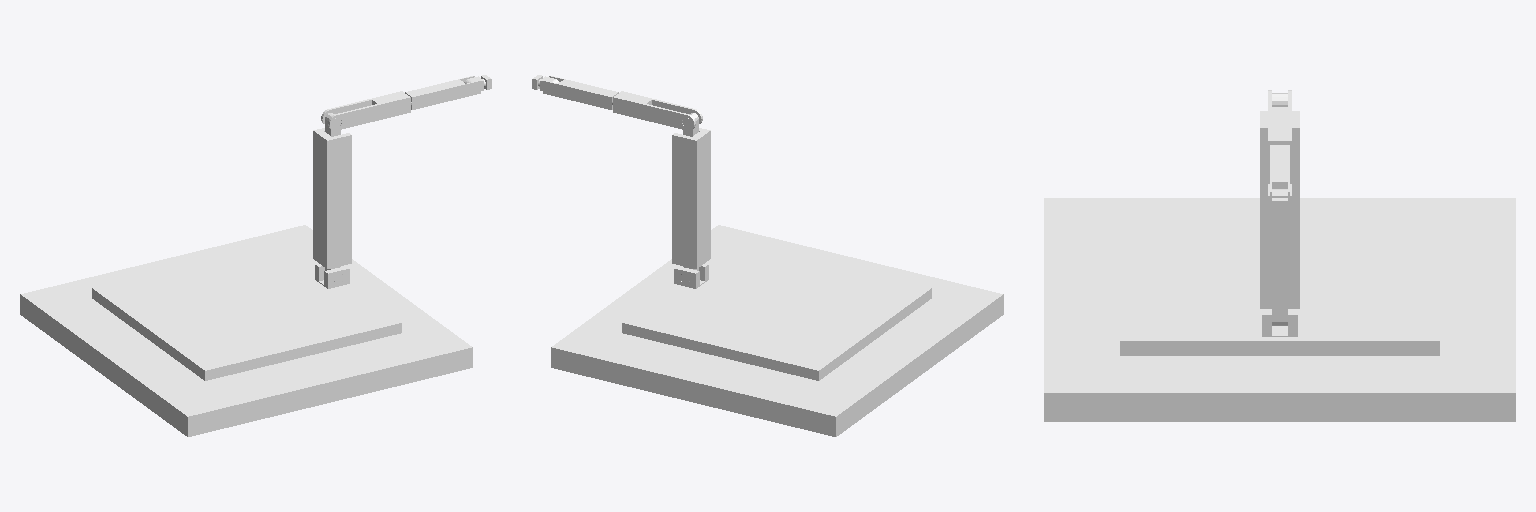
URDF robot description (sbarm):
<?xml version="1.0" encoding="utf-8"?>
<!-- This URDF was automatically created by SolidWorks to URDF Exporter! Originally created by Stephen Brawner (brawner@gmail.com) 
     Commit Version: 1.6.0-4-g7f85cfe  Build Version: 1.6.7995.38578
     For more information, please see http://wiki.ros.org/sw_urdf_exporter -->
<robot 
  name="sbarm">
  <link
    name="base_link">
    <inertial>
      <origin
        xyz="3.22895573206493E-17 1.20744124924668E-17 0.0199816050754555"
        rpy="0 0 0" />
      <mass
        value="13.6628672587713" />
      <inertia
        ixx="0.398885264403897"
        ixy="5.2372920814983E-19"
        ixz="2.08800894925334E-18"
        iyy="0.385539464403898"
        iyz="2.09420681298502E-17"
        izz="0.780781306785087" />
    </inertial>
    <visual>
      <origin
        xyz="0 0 0"
        rpy="0 0 0" />
      <geometry>
        <mesh
          filename="package://sbarm_description/meshes/base_link.STL" />
      </geometry>
      <material
        name="">
        <color
          rgba="1 1 1 1" />
      </material>
    </visual>
    <collision>
      <origin
        xyz="0 0 0"
        rpy="0 0 0" />
      <geometry>
        <mesh
          filename="package://sbarm_description/meshes/base_link.STL" />
      </geometry>
    </collision>
  </link>
  <link
    name="Link1">
    <inertial>
      <origin
        xyz="-0.000340271092844169 0.00970833906327644 2.77387961485344E-17"
        rpy="0 0 0" />
      <mass
        value="3.2314159265359" />
      <inertia
        ixx="0.042802851219708"
        ixy="3.20697949652414E-07"
        ixz="4.4594452943992E-20"
        iyy="0.0851477622987963"
        iyz="1.02247133736398E-20"
        izz="0.0426100545220677" />
    </inertial>
    <visual>
      <origin
        xyz="0 0 0"
        rpy="0 0 0" />
      <geometry>
        <mesh
          filename="package://sbarm_description/meshes/Link1.STL" />
      </geometry>
      <material
        name="">
        <color
          rgba="1 1 1 1" />
      </material>
    </visual>
    <collision>
      <origin
        xyz="0 0 0"
        rpy="0 0 0" />
      <geometry>
        <mesh
          filename="package://sbarm_description/meshes/Link1.STL" />
      </geometry>
    </collision>
  </link>
  <joint
    name="Joint0"
    type="continuous">
    <origin
      xyz="0 0 0.05"
      rpy="1.5708 0 0" />
    <parent
      link="base_link" />
    <child
      link="Link1" />
    <axis
      xyz="0 -1 0" />
  </joint>
  <link
    name="Link2">
    <inertial>
      <origin
        xyz="4.94172086145169E-10 0.0332156260215387 2.77555756156289E-17"
        rpy="0 0 0" />
      <mass
        value="0.03555" />
      <inertia
        ixx="1.33997123018394E-05"
        ixy="4.62022022451317E-16"
        ixz="1.79644795454993E-21"
        iyy="1.34307671297689E-05"
        iyz="-3.59186187689818E-21"
        izz="1.48323544316084E-05" />
    </inertial>
    <visual>
      <origin
        xyz="0 0 0"
        rpy="0 0 0" />
      <geometry>
        <mesh
          filename="package://sbarm_description/meshes/Link2.STL" />
      </geometry>
      <material
        name="">
        <color
          rgba="1 1 1 1" />
      </material>
    </visual>
    <collision>
      <origin
        xyz="0 0 0"
        rpy="0 0 0" />
      <geometry>
        <mesh
          filename="package://sbarm_description/meshes/Link2.STL" />
      </geometry>
    </collision>
  </link>
  <joint
    name="joint1"
    type="continuous">
    <origin
      xyz="0.175 0 0"
      rpy="0 1.5708 0" />
    <parent
      link="Link1" />
    <child
      link="Link2" />
    <axis
      xyz="0 1 0" />
  </joint>
  <link
    name="Link3">
    <inertial>
      <origin
        xyz="0.14092 -3.1717E-16 0.0012243"
        rpy="0 0 0" />
      <mass
        value="0.6015" />
      <inertia
        ixx="0.00024375"
        ixy="6.0163E-18"
        ixz="-6.4307E-05"
        iyy="0.0036817"
        iyz="1.5063E-19"
        izz="0.0036932" />
    </inertial>
    <visual>
      <origin
        xyz="0 0 0"
        rpy="0 0 0" />
      <geometry>
        <mesh
          filename="package://sbarm_description/meshes/Link3.STL" />
      </geometry>
      <material
        name="">
        <color
          rgba="1 1 1 1" />
      </material>
    </visual>
    <collision>
      <origin
        xyz="0 0 0"
        rpy="0 0 0" />
      <geometry>
        <mesh
          filename="package://sbarm_description/meshes/Link3.STL" />
      </geometry>
    </collision>
  </link>
  <joint
    name="Joint2"
    type="revolute">
    <origin
      xyz="0 0.04 0"
      rpy="3.1416 0 1.5708" />
    <parent
      link="Link2" />
    <child
      link="Link3" />
    <axis
      xyz="0 1 0" />
    <limit
      lower="-1.57"
      upper="1.57"
      effort="0"
      velocity="0" />
  </joint>
  <link
    name="Link4">
    <inertial>
      <origin
        xyz="-0.0810873037652259 5.5817069100331E-16 0.00172207650717737"
        rpy="0 0 0" />
      <mass
        value="0.0996862436110493" />
      <inertia
        ixx="1.67014049284908E-05"
        ixy="-6.66301673992002E-20"
        ixz="-5.6686140494268E-06"
        iyy="0.000176995627271821"
        iyz="-6.03509473611794E-22"
        izz="0.000178392866442945" />
    </inertial>
    <visual>
      <origin
        xyz="0 0 0"
        rpy="0 0 0" />
      <geometry>
        <mesh
          filename="package://sbarm_description/meshes/Link4.STL" />
      </geometry>
      <material
        name="">
        <color
          rgba="1 1 1 1" />
      </material>
    </visual>
    <collision>
      <origin
        xyz="0 0 0"
        rpy="0 0 0" />
      <geometry>
        <mesh
          filename="package://sbarm_description/meshes/Link4.STL" />
      </geometry>
    </collision>
  </link>
  <joint
    name="Joint3"
    type="revolute">
    <origin
      xyz="0.3 0 0"
      rpy="0 -1.5708 0" />
    <parent
      link="Link3" />
    <child
      link="Link4" />
    <axis
      xyz="0 -1 0" />
    <limit
      lower="-1.57"
      upper="1.57"
      effort="0"
      velocity="0" />
  </joint>
  <link
    name="Link5">
    <inertial>
      <origin
        xyz="-4.97710877817599E-16 0.0751572598582004 5.55111512312578E-17"
        rpy="0 0 0" />
      <mass
        value="0.0787831853071797" />
      <inertia
        ixx="0.000117962651560774"
        ixy="-5.84753780977857E-20"
        ixz="-3.94384087571583E-22"
        iyy="7.98714047366535E-06"
        iyz="-3.07054641843408E-22"
        izz="0.000118083549435747" />
    </inertial>
    <visual>
      <origin
        xyz="0 0 0"
        rpy="0 0 0" />
      <geometry>
        <mesh
          filename="package://sbarm_description/meshes/Link5.STL" />
      </geometry>
      <material
        name="">
        <color
          rgba="1 1 1 1" />
      </material>
    </visual>
    <collision>
      <origin
        xyz="0 0 0"
        rpy="0 0 0" />
      <geometry>
        <mesh
          filename="package://sbarm_description/meshes/Link5.STL" />
      </geometry>
    </collision>
  </link>
  <joint
    name="joint4"
    type="continuous">
    <origin
      xyz="-0.13 0 0"
      rpy="3.1416 0 -1.5708" />
    <parent
      link="Link4" />
    <child
      link="Link5" />
    <axis
      xyz="0 1 0" />
  </joint>
  <link
    name="Link6">
    <inertial>
      <origin
        xyz="-0.00366912623487137 4.69078198953036E-16 -1.66533453693773E-16"
        rpy="0 0 0" />
      <mass
        value="0.0109452431127404" />
      <inertia
        ixx="9.05783868631967E-07"
        ixy="5.6738921807578E-22"
        ixz="1.04900797162653E-23"
        iyy="9.84418061104334E-07"
        iyz="-2.42004461905348E-23"
        izz="1.17095012491123E-06" />
    </inertial>
    <visual>
      <origin
        xyz="0 0 0"
        rpy="0 0 0" />
      <geometry>
        <mesh
          filename="package://sbarm_description/meshes/Link6.STL" />
      </geometry>
      <material
        name="">
        <color
          rgba="1 1 1 1" />
      </material>
    </visual>
    <collision>
      <origin
        xyz="0 0 0"
        rpy="0 0 0" />
      <geometry>
        <mesh
          filename="package://sbarm_description/meshes/Link6.STL" />
      </geometry>
    </collision>
  </link>
  <joint
    name="Joint5"
    type="revolute">
    <origin
      xyz="0 0.1525 0"
      rpy="3.1416 0 -1.5708" />
    <parent
      link="Link5" />
    <child
      link="Link6" />
    <axis
      xyz="0 1 0" />
    <limit
      lower="-1.57"
      upper="1.57"
      effort="0"
      velocity="0" />
  </joint>
  <link
    name="Link7">
    <inertial>
      <origin
        xyz="-4.80820654765989E-16 0.00501798437019696 -5.55111512312578E-17"
        rpy="0 0 0" />
      <mass
        value="0.0066507188014664" />
      <inertia
        ixx="5.02744158829931E-07"
        ixy="-1.0077740630167E-22"
        ixz="-5.52297948375617E-23"
        iyy="3.4121813295791E-07"
        iyz="4.56641696977034E-23"
        izz="5.02744158829931E-07" />
    </inertial>
    <visual>
      <origin
        xyz="0 0 0"
        rpy="0 0 0" />
      <geometry>
        <mesh
          filename="package://sbarm_description/meshes/Link7.STL" />
      </geometry>
      <material
        name="">
        <color
          rgba="1 1 1 1" />
      </material>
    </visual>
    <collision>
      <origin
        xyz="0 0 0"
        rpy="0 0 0" />
      <geometry>
        <mesh
          filename="package://sbarm_description/meshes/Link7.STL" />
      </geometry>
    </collision>
  </link>
  <joint
    name="Joint6"
    type="continuous">
    <origin
      xyz="-0.02 0 0"
      rpy="3.1416 0 -1.5708" />
    <parent
      link="Link6" />
    <child
      link="Link7" />
    <axis
      xyz="0 1 0" />
  </joint>
</robot>

--- What the picture shows (computed from the rendered views, not written in the file) ---
Views: 3 orthographic renders of the robot side by side, from view 1: azimuth 30°, elevation 25°; view 2: azimuth 150°, elevation 25°; view 3: azimuth 270°, elevation 25°.
Model sbarm with 8 links and 7 joints (3 revolute, 4 continuous), rooted at base_link, posed every joint at zero.
Links seen in each view (by area): view 1: base_link, Link1, Link3, Link4, Link5, Link2; view 2: base_link, Link1, Link3, Link4, Link5, Link2; view 3: base_link, Link1, Link3, Link4, Link5, Link2.
Link boxes in pixels (x1,y1,x2,y2): base_link: [20, 225, 472, 436]; Link1: [92, 240, 401, 380]; Link3: [313, 113, 351, 283]; Link4: [321, 91, 410, 130]; Link5: [405, 76, 480, 109]; Link2: [315, 264, 349, 288]; base_link: [551, 225, 1003, 436]; Link1: [622, 240, 931, 380]; Link3: [672, 113, 710, 283]; Link4: [613, 91, 702, 130]; Link5: [543, 76, 618, 109]; Link2: [674, 264, 708, 288]; base_link: [1044, 198, 1515, 421]; Link1: [1120, 206, 1439, 355]; Link3: [1260, 93, 1299, 325]; Link4: [1268, 90, 1291, 162]; Link5: [1270, 145, 1289, 209]; Link2: [1262, 309, 1297, 336].
Bounding box of the posed robot: 0.7825 × 0.59 × 0.405 m (x, y, z).
8 mesh visuals loaded from 8 distinct referenced files (8 binary STL).
